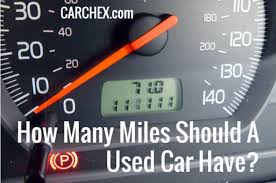Digital_Meter: (98, 82, 196, 114)
